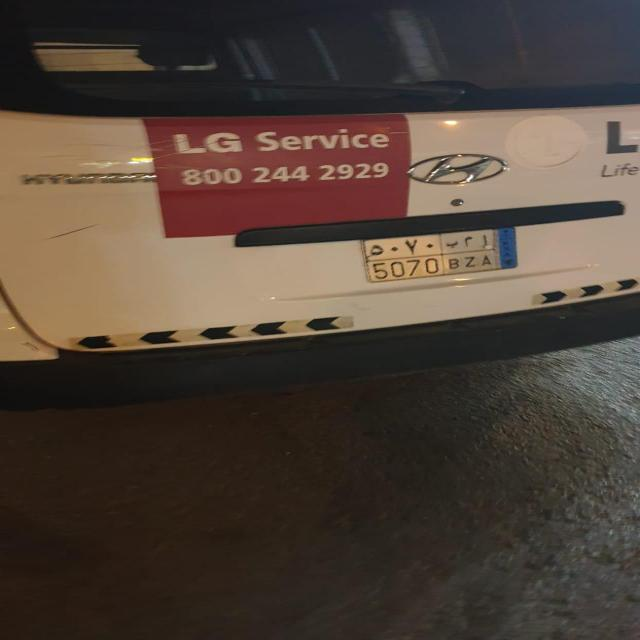license_plate: (361, 227, 519, 283)
